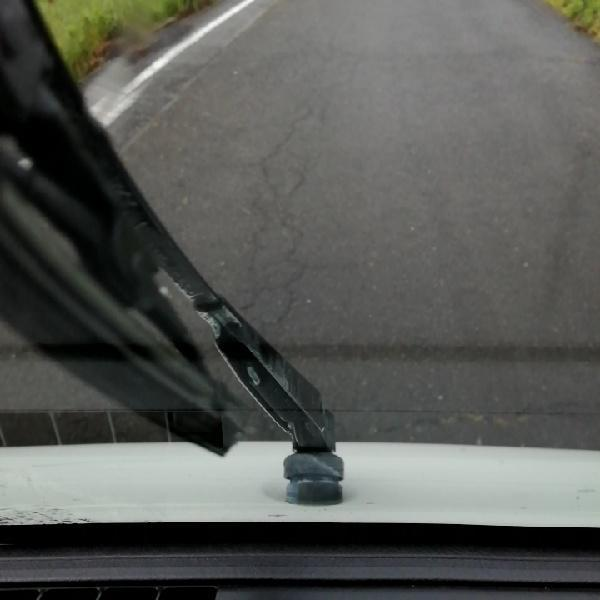D20: (238, 54, 339, 340)
